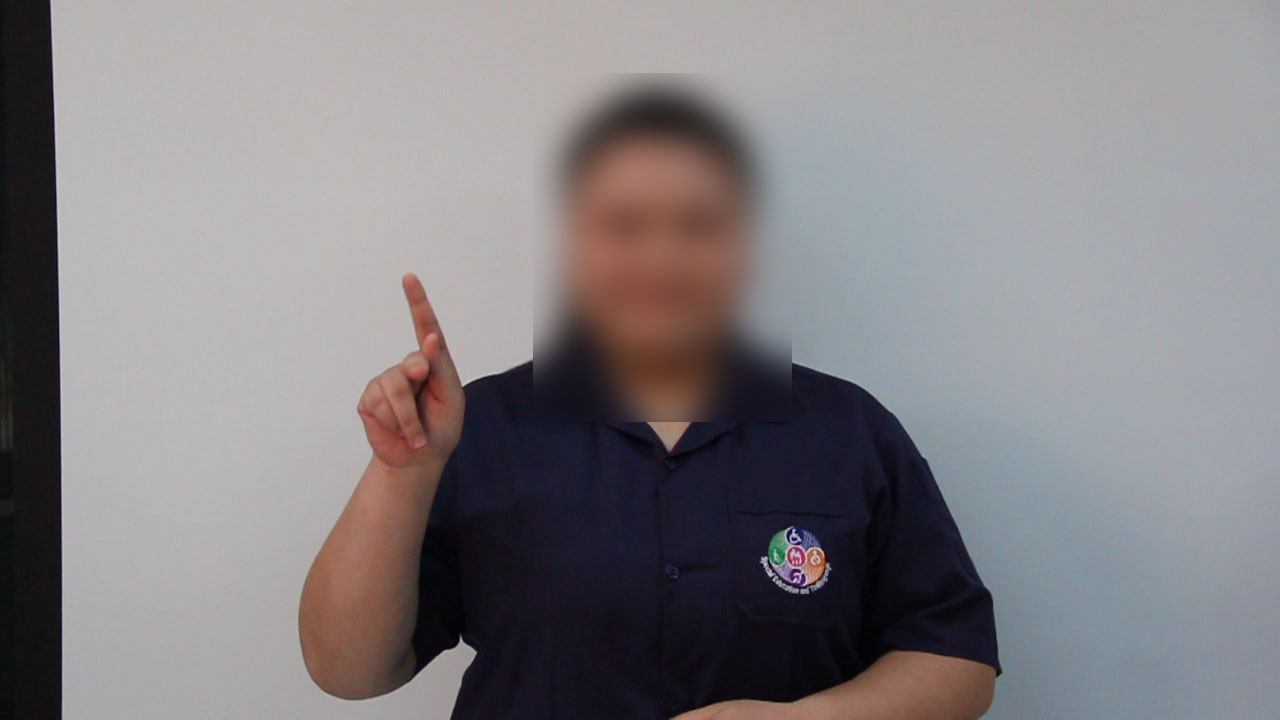ko: (336, 259, 487, 471)
